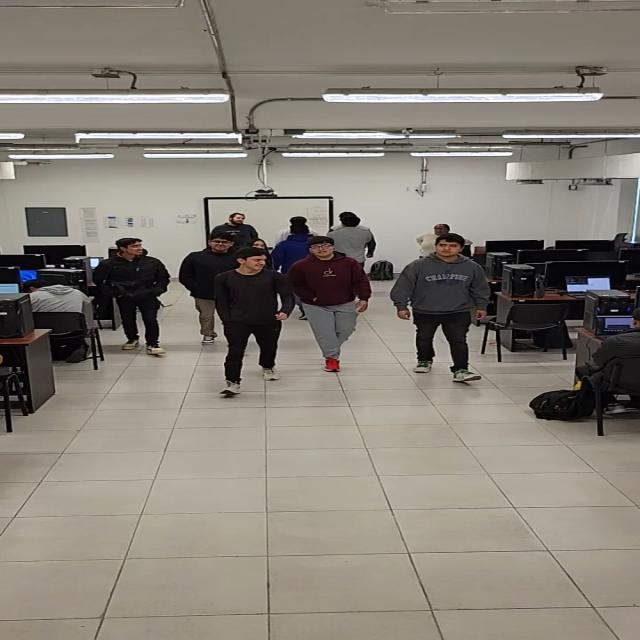Persona: (394, 226, 494, 386), (211, 247, 288, 396), (290, 232, 366, 382), (90, 232, 169, 361)
